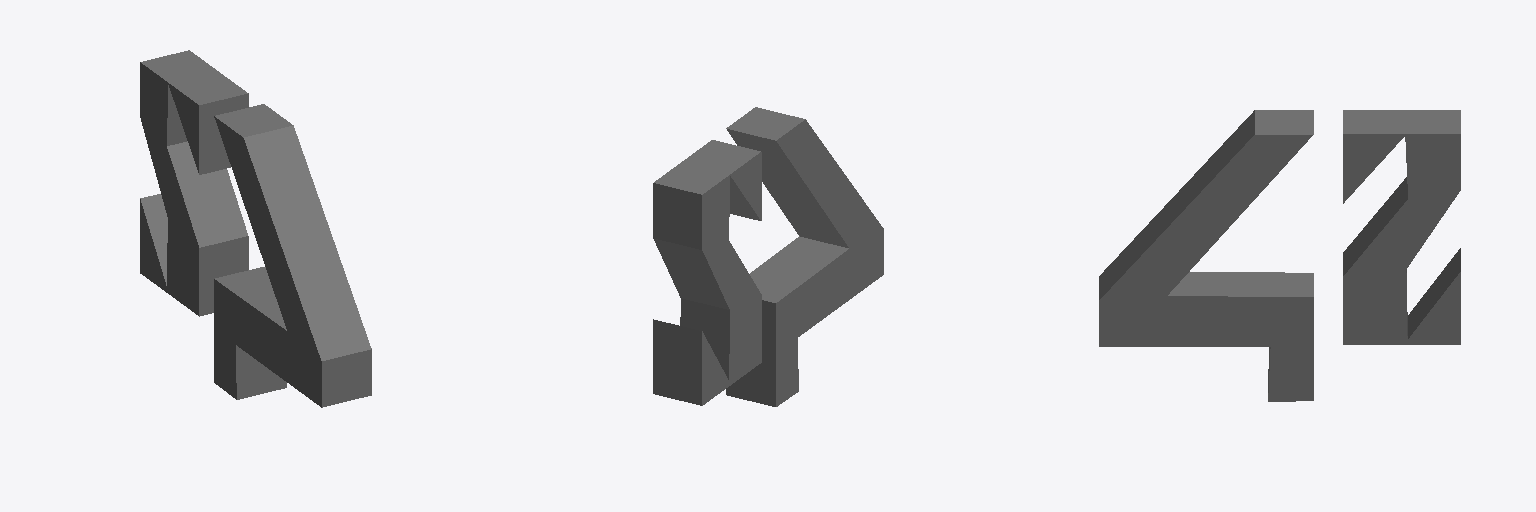
File: 42_no_normals.obj
3 renders of one model, left to right at view 1: azimuth 30°, elevation 25°; view 2: azimuth 150°, elevation 25°; view 3: azimuth 270°, elevation 25°, orthographic.
Parts seen in each view (by area): view 1: Cube; view 2: Cube; view 3: Cube.
Boxes of the visible parts, x1,y1,x2,y2 form: Cube: [140, 50, 371, 407]; Cube: [653, 107, 883, 406]; Cube: [1099, 110, 1460, 401].
Size of the model in its own units: 0.4599 by 2.34 by 2.88.